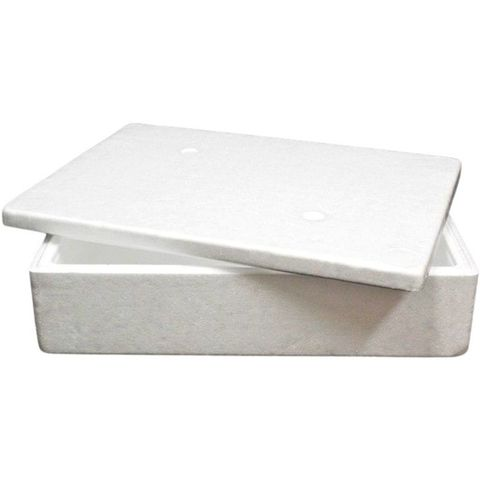Boxes: (2, 124, 477, 358)
